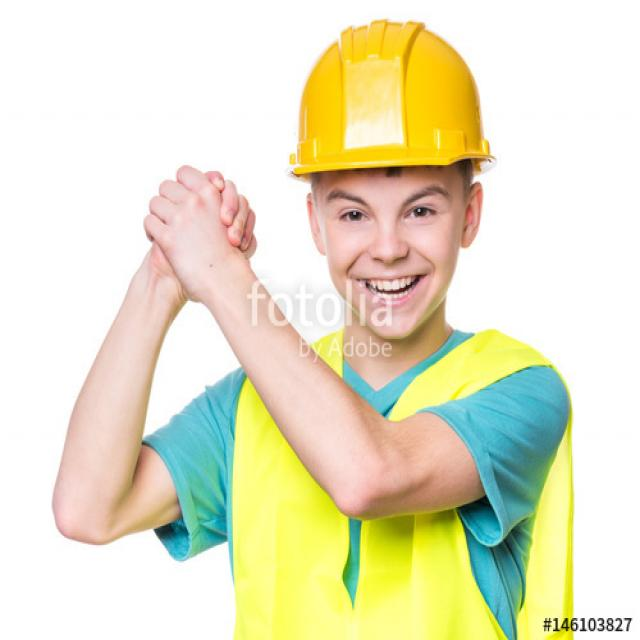Reflective-Jacket: (224, 323, 577, 636)
Safety-Helmet: (288, 16, 492, 180)
